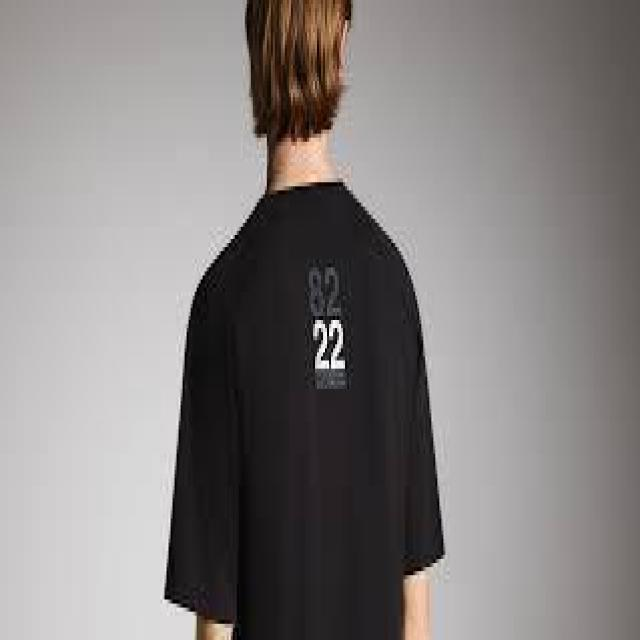Tshirt: (162, 162, 450, 640)
